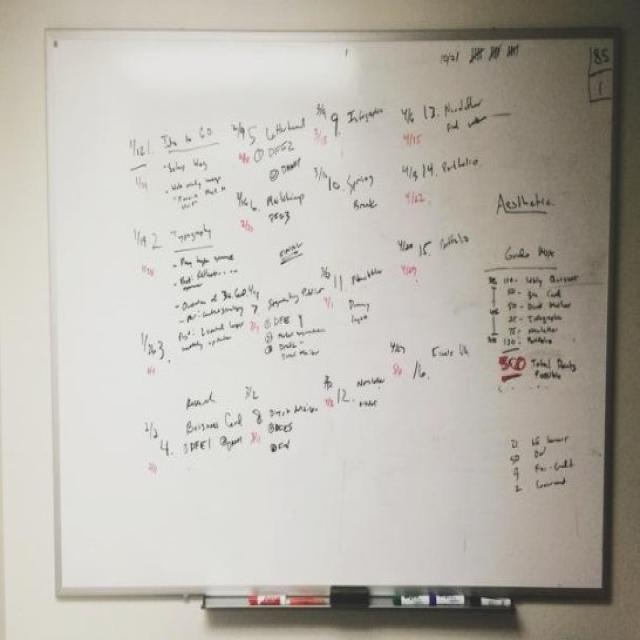White-board: (45, 30, 624, 592)
